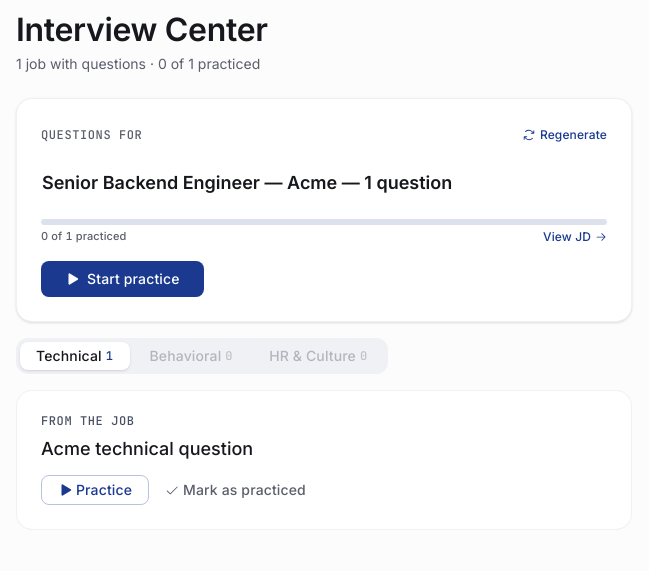
Test: InterviewIndexPage — real questions exist across JDs › says so when Mark as Practiced doesn't save, and undoes the tick
The image size is (649, 571).
What coordinates should you click on to do the following:
click the button "Mark as practiced"
I would click on:
 (236, 490)
Its box is x1=157 y1=476 x2=314 y2=504.
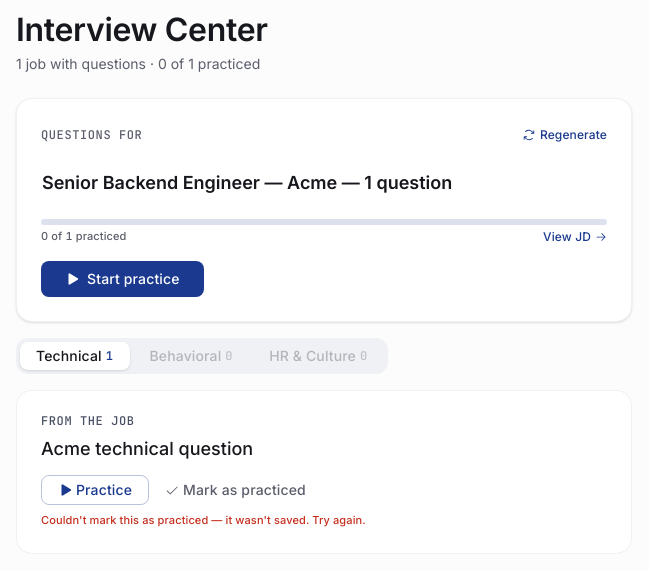
Expected: the text "0 of 1 practiced" is shown, x1=41 y1=229 x2=126 y2=245
Now the message shows "Couldn't mark this as practiced — it wasn't saved", box x1=41 y1=512 x2=366 y2=526
